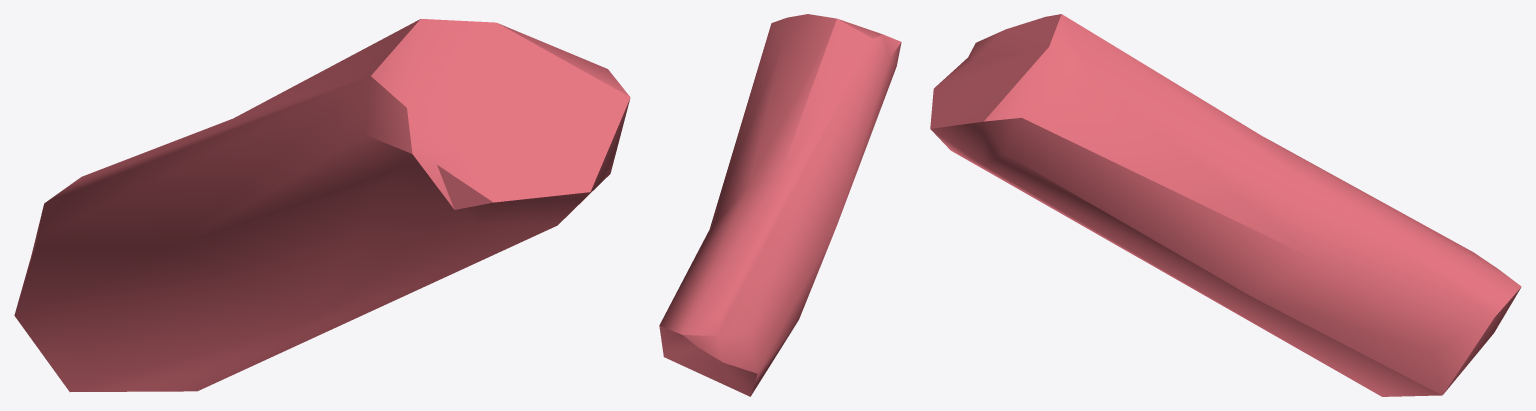
The model's file is fma18887_fj3609.glb.
The picture shows the model from 3 angles, left to right: view 1: azimuth 30°, elevation 25°; view 2: azimuth 150°, elevation 25°; view 3: azimuth 270°, elevation 25°; orthographic projection. The views are drawn at different scales.
Visible parts, largest first — view 1: FMA18887_FJ3609; view 2: FMA18887_FJ3609; view 3: FMA18887_FJ3609.
Part boxes in pixels (x1,y1,x2,y2): FMA18887_FJ3609: [14, 19, 630, 391]; FMA18887_FJ3609: [659, 14, 901, 396]; FMA18887_FJ3609: [930, 14, 1521, 396].
Size of the model in its own units: 0.00872 by 0.0159 by 0.0222.
